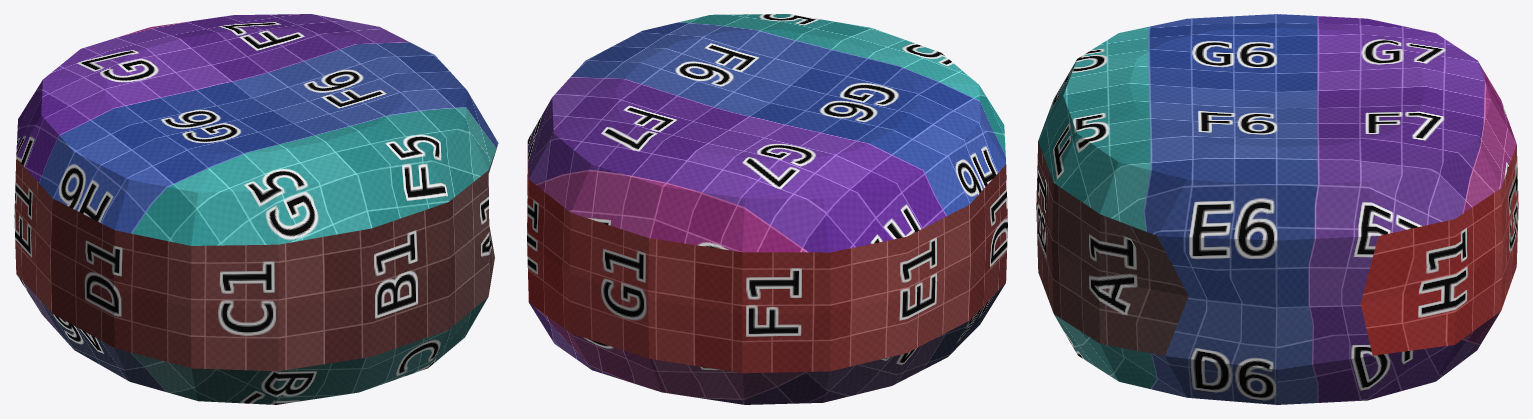
Rendered from dev_oofball.glb.
3 views of the same model, side by side, from view 1: azimuth 30°, elevation 25°; view 2: azimuth 150°, elevation 25°; view 3: azimuth 270°, elevation 25° (orthographic). The views are drawn at different scales.
Parts seen in each view (by area): view 1: Cube; view 2: Cube; view 3: Cube.
Part boxes in pixels (<box>): Cube: <box>14,14,498,404</box>; Cube: <box>527,14,1007,404</box>; Cube: <box>1036,14,1518,404</box>.
Bounding box in the file's own units: 1.87 × 1.07 × 1.89.
Materials: 1 (1 with a texture image).
